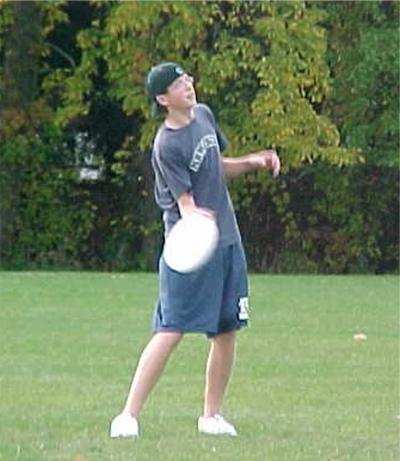person: (110, 61, 281, 437)
